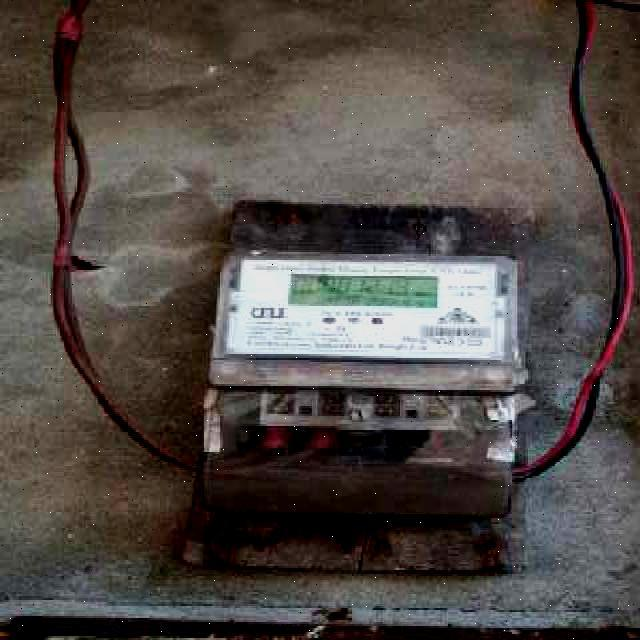LCD: (285, 266, 450, 316)
